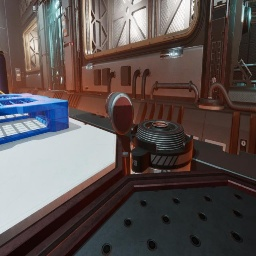EmergencyPhone ,: (21, 71, 24, 77)
NitrogenTank ,: (105, 92, 134, 135)
SafetySwitchPanel ,: (62, 8, 69, 37), (15, 68, 21, 81)
